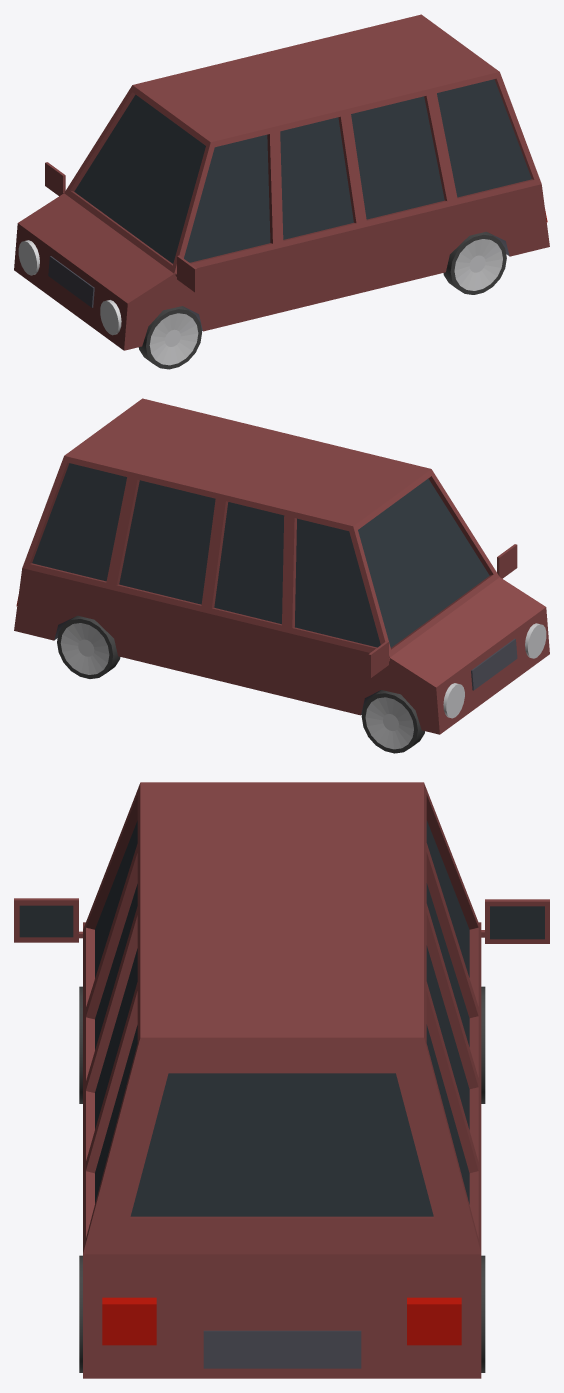
The model's file is car5.FBX.
3 views of the same model, one above another, from view 1: azimuth 30°, elevation 25°; view 2: azimuth 150°, elevation 25°; view 3: azimuth 270°, elevation 25° (orthographic). The views are drawn at different scales.
Visible parts, largest first — view 1: car5; view 2: car5; view 3: car5.
Boxes of the visible parts, x1,y1,x2,y2 form: car5: (14, 14, 549, 369); car5: (14, 398, 549, 753); car5: (14, 782, 549, 1378).
Bounding box in the file's own units: 12.5 × 5.57 × 7.46.
